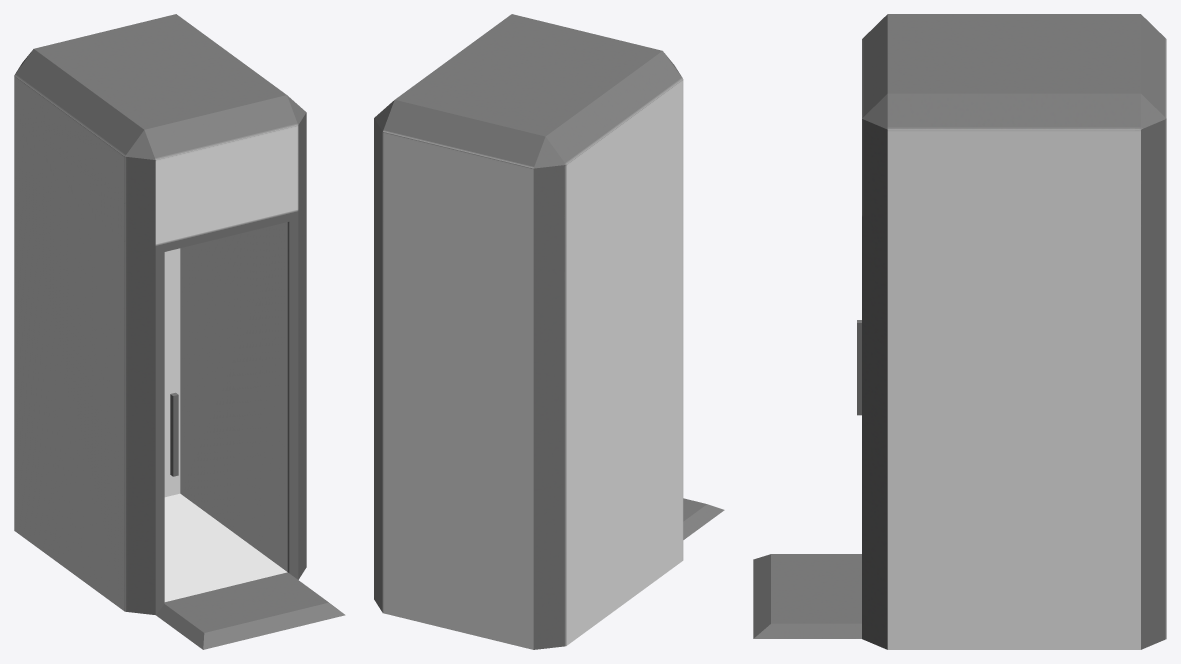
File: Quarters_Shower.fbx
3 views of the same model, side by side, from view 1: azimuth 30°, elevation 25°; view 2: azimuth 150°, elevation 25°; view 3: azimuth 270°, elevation 25° (orthographic). The views are drawn at different scales.
Visible parts, largest first — view 1: Quarters_Shower; view 2: Quarters_Shower; view 3: Quarters_Shower.
Boxes of the visible parts, x1,y1,x2,y2 form: Quarters_Shower: (14, 14, 345, 649); Quarters_Shower: (374, 14, 724, 649); Quarters_Shower: (753, 14, 1166, 649).
Bounding box in the file's own units: 441 × 1106 × 760.
